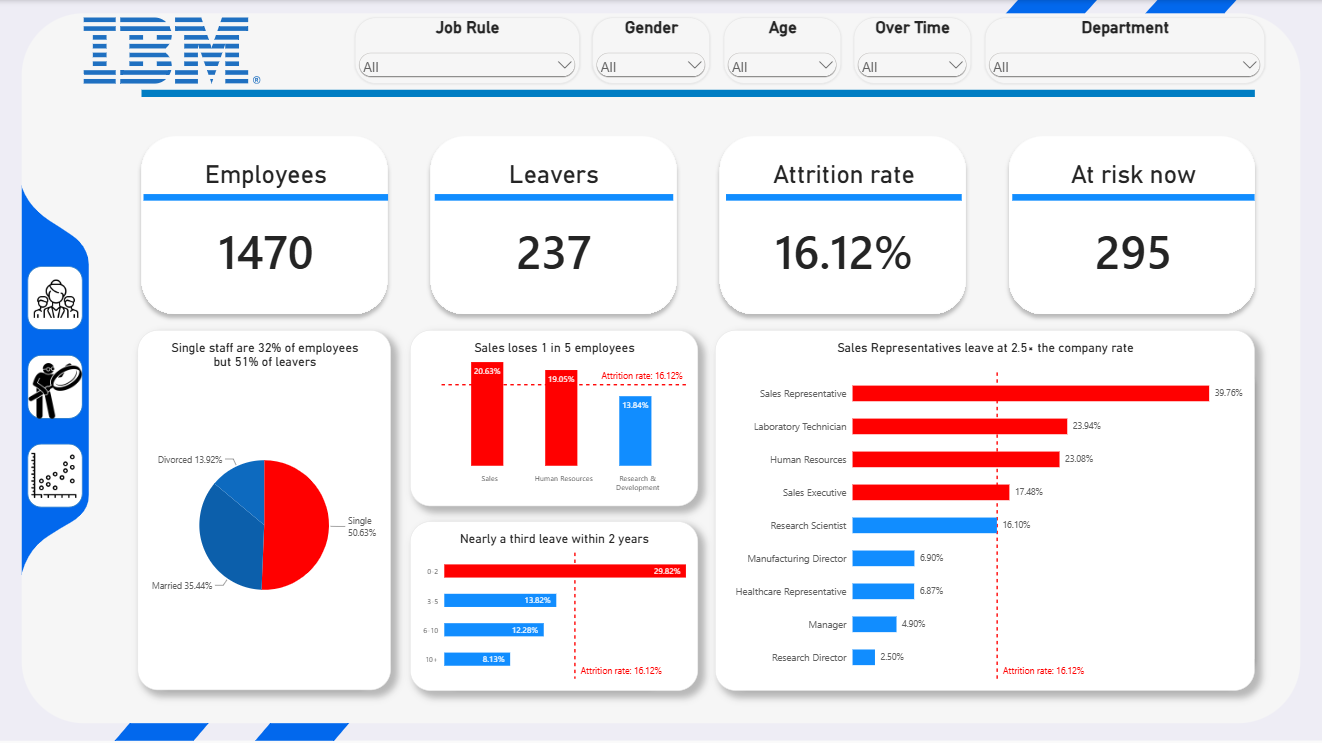

The page's visual inventory and layout, read from the dashboard file:
{"tool":"powerbi","page":{"name":"1-Overview","canvas":[1920,1080],"ordinal":1},"visuals":[{"type":"shape","box":[40,644,80,92.5],"z":0},{"type":"card","title":"Employees","fields":{"Values":["_Measures.Headcount"]},"box":[191.9,217.7,387.4,230.6],"z":1000},{"type":"card","title":"Leavers","fields":{"Values":["_Measures.Leavers"]},"box":[616.1,217.7,378.2,230.6],"z":2000},{"type":"card","title":"Attrition rate","fields":{"Values":["_Measures.Attrition Rate %"]},"box":[1038.6,217.7,374.5,230.6],"z":3000},{"type":"card","title":"At risk now","fields":{"Values":["_Measures.High-Risk Active Employees"]},"box":[1453.7,217.7,383.7,230.6],"z":4000},{"type":"columnChart","title":"Sales loses 1 in 5 employees","fields":{"Category":["dim_department.Department"],"Y":["_Measures.Attrition Rate %"]},"box":[596,480,418,256],"z":5000},{"type":"clusteredBarChart","title":"Nearly a third leave within 2 years","fields":{"Category":["fact_employee.Tenure Band"],"Y":["_Measures.Attrition Rate %"]},"box":[596,758,418,246],"z":6000},{"type":"clusteredBarChart","title":"Sales Representatives leave at 2.5× the company rate","fields":{"Category":["dim_job_role.JobRole"],"Y":["_Measures.Attrition Rate %"]},"box":[1038,480,784,524],"z":7000},{"type":"slicer","title":"Department","fields":{"Values":["dim_department.Department"]},"box":[1430,26,406,96],"z":8000},{"type":"slicer","title":"Over Time","fields":{"Values":["dim_overtime.OverTime"]},"box":[1240.5,26,170,96],"z":9000},{"type":"slicer","title":"Age","fields":{"Values":["fact_employee.Age Band"]},"box":[1051,26,170,96],"z":10000},{"type":"slicer","title":"Job Rule","fields":{"Values":["dim_job_role.JobRole"]},"box":[516,26,326,96],"z":11000},{"type":"slicer","title":"Gender","fields":{"Values":["dim_gender.Gender"]},"box":[861.5,26,170,96],"z":12000},{"type":"image","box":[0,26,500,96],"z":13000},{"type":"pieChart","title":"Single staff are 32% of employees but 51% of leavers","fields":{"Category":["dim_marital_status.MaritalStatus"],"Y":["_Measures.Leavers"]},"box":[200,480,368.3,523.3],"z":14000},{"type":"shape","box":[40,387.3,80,92.5],"z":15000},{"type":"image","box":[48.2,393.6,64.5,80],"z":18000},{"type":"image","box":[46,648,65.5,84.5],"z":19000},{"type":"shape","box":[40,516,80,92.5],"z":20000},{"type":"image","box":[40,526,80.9,81.8],"z":21000}]}

Visuals, with their boxes in screenshot pixels (x1, y1, x2, y2), scaled from the page's 1920x1080 canvas onto the 1322x743 screenshot:
shape: crop(28, 443, 83, 507)
"Employees" card: crop(132, 150, 399, 308)
"Leavers" card: crop(424, 150, 685, 308)
"Attrition rate" card: crop(715, 150, 973, 308)
"At risk now" card: crop(1001, 150, 1265, 308)
"Sales loses 1 in 5 employees" columnChart: crop(410, 330, 698, 506)
"Nearly a third leave within 2 years" clusteredBarChart: crop(410, 521, 698, 691)
"Sales Representatives leave at 2.5× the company rate" clusteredBarChart: crop(715, 330, 1255, 691)
"Department" slicer: crop(985, 18, 1264, 84)
"Over Time" slicer: crop(854, 18, 971, 84)
"Age" slicer: crop(724, 18, 841, 84)
"Job Rule" slicer: crop(355, 18, 580, 84)
"Gender" slicer: crop(593, 18, 710, 84)
image: crop(0, 18, 344, 84)
"Single staff are 32% of employees but 51% of leavers" pieChart: crop(138, 330, 391, 690)
shape: crop(28, 266, 83, 330)
image: crop(33, 271, 78, 326)
image: crop(32, 446, 77, 504)
shape: crop(28, 355, 83, 419)
image: crop(28, 362, 83, 418)
